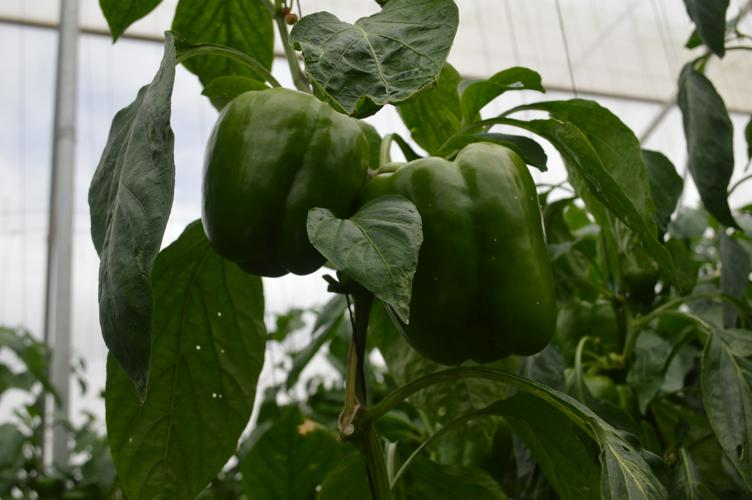BellPepper: (367, 136, 556, 360), (201, 94, 376, 271)
